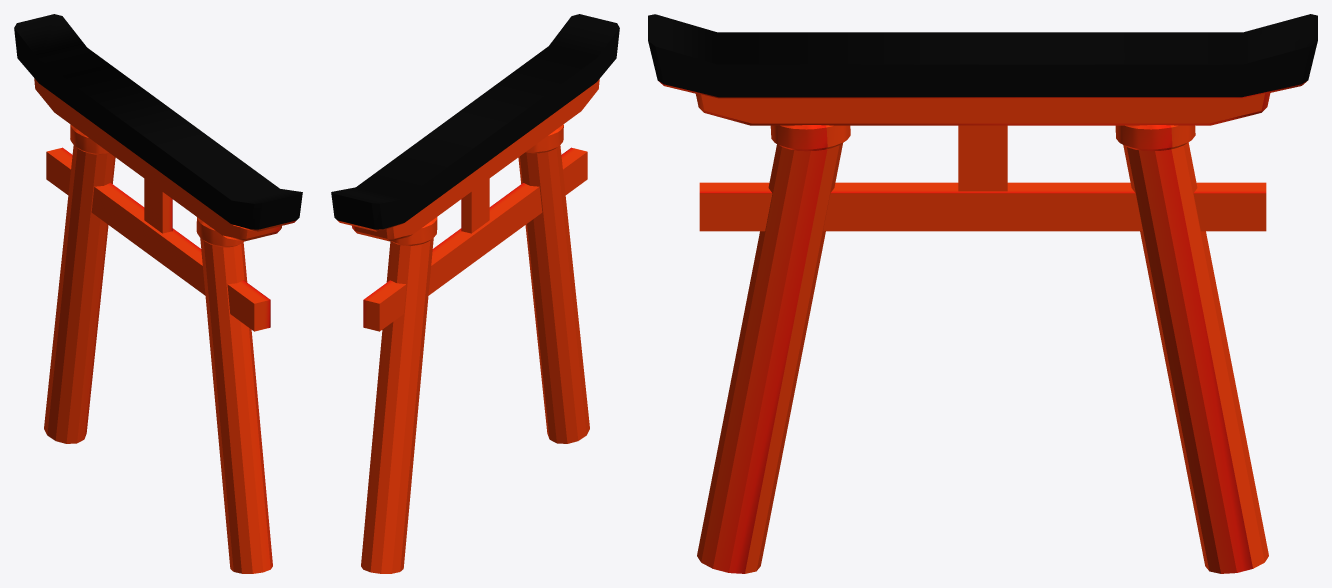
Rendered from torii.fbx.
The picture shows the model from 3 angles, left to right: view 1: azimuth 30°, elevation 25°; view 2: azimuth 150°, elevation 25°; view 3: azimuth 270°, elevation 25°; orthographic projection. The views are drawn at different scales.
Parts seen in each view (by area): view 1: pCylinder1; view 2: pCylinder1; view 3: pCylinder1.
Part boxes in pixels (x1,y1,x2,y2): pCylinder1: [14, 14, 302, 573]; pCylinder1: [331, 14, 619, 573]; pCylinder1: [648, 14, 1317, 573].
Size of the model in its own units: 6.49 by 50.54 by 57.03.
Materials: 1 (1 with a texture image).
